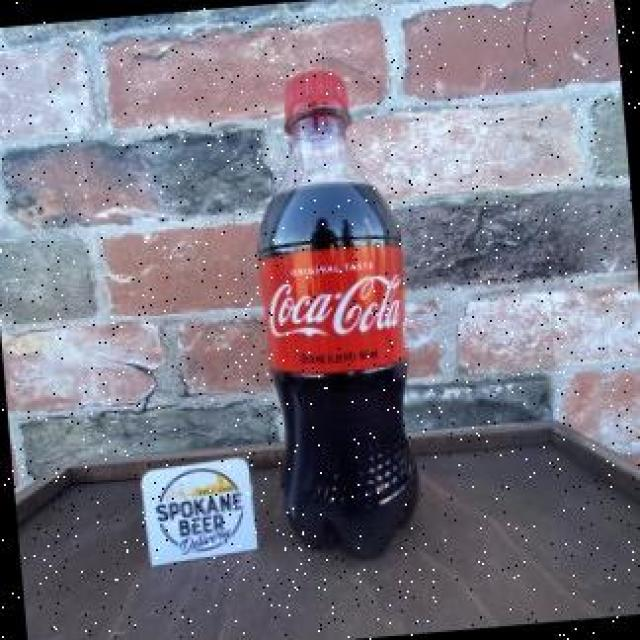coca-cola: (241, 65, 435, 571)
